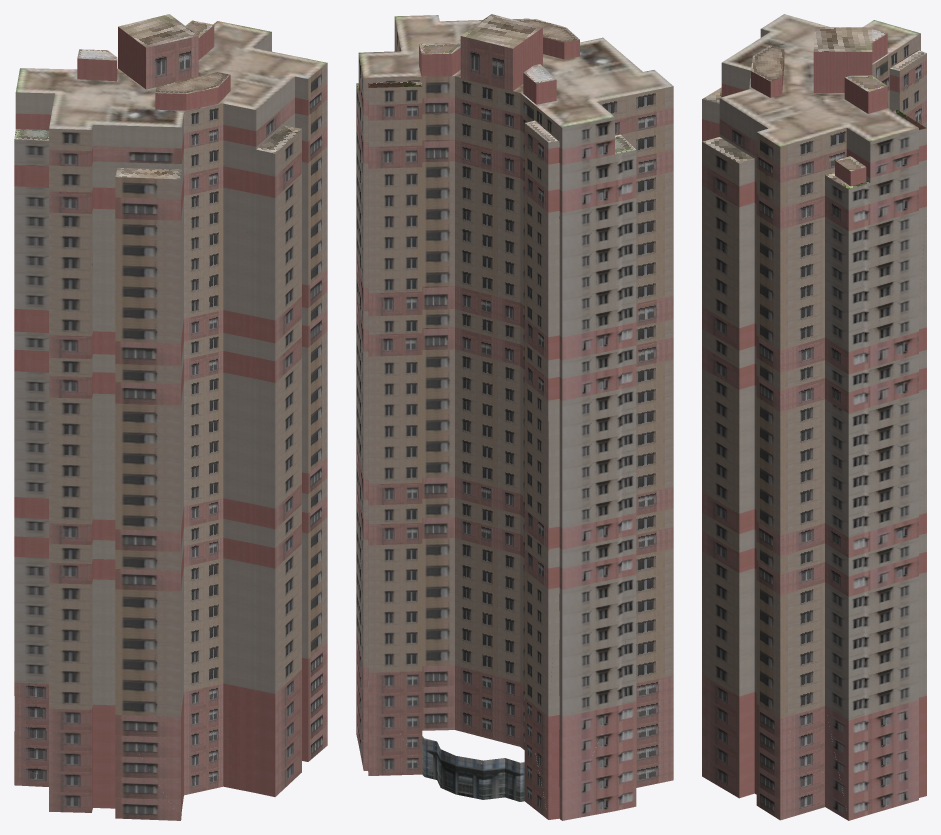
Rendered from HPDPKZ_xujiahuilu1nong5hao.dae.
3 views of the same model, side by side, from view 1: azimuth 30°, elevation 25°; view 2: azimuth 150°, elevation 25°; view 3: azimuth 270°, elevation 25° (orthographic). The views are drawn at different scales.
Visible parts, largest first — view 1: HPDPKZ_xujiahuilu1nong5hao_louding2, HPDPKZ_xujiahuilu1nong5hao_34F_3403, HPDPKZ_xujiahuilu1nong5hao_34F_3406, HPDPKZ_xujiahuilu1nong5hao_33F_3303, HPDPKZ_xujiahuilu1nong5hao_33F_3306, HPDPKZ_xujiahuilu1nong5hao_25F_2503, HPDPKZ_xujiahuilu1nong5hao_25F_2506, HPDPKZ_xujiahuilu1nong5hao_3F_303, HPDPKZ_xujiahuilu1nong5hao_22F_2206, HPDPKZ_xujiahuilu1nong5hao_22F_2203, HPDPKZ_xujiahuilu1nong5hao_3F_306, HPDPKZ_xujiahuilu1nong5hao_23F_2303 (+124 smaller); view 2: HPDPKZ_xujiahuilu1nong5hao_louding2, HPDPKZ_xujiahuilu1nong5hao_34F_3401, HPDPKZ_xujiahuilu1nong5hao_34F_3404, HPDPKZ_xujiahuilu1nong5hao_33F_3301, HPDPKZ_xujiahuilu1nong5hao_1F, HPDPKZ_xujiahuilu1nong5hao_25F_2501, HPDPKZ_xujiahuilu1nong5hao_22F_2201, HPDPKZ_xujiahuilu1nong5hao_3F_301, HPDPKZ_xujiahuilu1nong5hao_33F_3304, HPDPKZ_xujiahuilu1nong5hao_23F_2301, HPDPKZ_xujiahuilu1nong5hao_32F_3201, HPDPKZ_xujiahuilu1nong5hao_7F_701 (+117 smaller); view 3: HPDPKZ_xujiahuilu1nong5hao_louding2, HPDPKZ_xujiahuilu1nong5hao_34F_3404, HPDPKZ_xujiahuilu1nong5hao_34F_3405, HPDPKZ_xujiahuilu1nong5hao_33F_3304, HPDPKZ_xujiahuilu1nong5hao_25F_2504, HPDPKZ_xujiahuilu1nong5hao_22F_2204, HPDPKZ_xujiahuilu1nong5hao_3F_304, HPDPKZ_xujiahuilu1nong5hao_23F_2304, HPDPKZ_xujiahuilu1nong5hao_32F_3204, HPDPKZ_xujiahuilu1nong5hao_8F_804, HPDPKZ_xujiahuilu1nong5hao_7F_704, HPDPKZ_xujiahuilu1nong5hao_6F_604 (+88 smaller).
Boxes of the visible parts, box(x1,y1,x2,y2) form: HPDPKZ_xujiahuilu1nong5hao_louding2: box(14, 14, 326, 179); HPDPKZ_xujiahuilu1nong5hao_34F_3403: box(106, 108, 203, 163); HPDPKZ_xujiahuilu1nong5hao_34F_3406: box(203, 81, 289, 146); HPDPKZ_xujiahuilu1nong5hao_33F_3303: box(106, 145, 203, 199); HPDPKZ_xujiahuilu1nong5hao_33F_3306: box(203, 118, 301, 176); HPDPKZ_xujiahuilu1nong5hao_25F_2503: box(106, 314, 203, 366); HPDPKZ_xujiahuilu1nong5hao_25F_2506: box(203, 296, 301, 343); HPDPKZ_xujiahuilu1nong5hao_3F_303: box(106, 729, 203, 780); HPDPKZ_xujiahuilu1nong5hao_22F_2206: box(203, 358, 301, 404); HPDPKZ_xujiahuilu1nong5hao_22F_2203: box(106, 377, 203, 427); HPDPKZ_xujiahuilu1nong5hao_3F_306: box(203, 711, 301, 757); HPDPKZ_xujiahuilu1nong5hao_23F_2303: box(106, 355, 203, 405); HPDPKZ_xujiahuilu1nong5hao_louding2: box(356, 14, 673, 154); HPDPKZ_xujiahuilu1nong5hao_34F_3401: box(520, 93, 620, 164); HPDPKZ_xujiahuilu1nong5hao_34F_3404: box(358, 41, 454, 120); HPDPKZ_xujiahuilu1nong5hao_33F_3301: box(520, 130, 636, 191); HPDPKZ_xujiahuilu1nong5hao_1F: box(422, 756, 579, 820); HPDPKZ_xujiahuilu1nong5hao_25F_2501: box(520, 303, 636, 360); HPDPKZ_xujiahuilu1nong5hao_22F_2201: box(520, 366, 636, 423); HPDPKZ_xujiahuilu1nong5hao_3F_301: box(520, 725, 636, 781); HPDPKZ_xujiahuilu1nong5hao_33F_3304: box(356, 84, 454, 146); HPDPKZ_xujiahuilu1nong5hao_23F_2301: box(520, 344, 636, 400); HPDPKZ_xujiahuilu1nong5hao_32F_3201: box(520, 157, 636, 212); HPDPKZ_xujiahuilu1nong5hao_7F_701: box(520, 640, 636, 695); HPDPKZ_xujiahuilu1nong5hao_louding2: box(702, 14, 926, 189); HPDPKZ_xujiahuilu1nong5hao_34F_3404: box(825, 127, 926, 178); HPDPKZ_xujiahuilu1nong5hao_34F_3405: box(756, 124, 824, 183); HPDPKZ_xujiahuilu1nong5hao_33F_3304: box(825, 160, 926, 210); HPDPKZ_xujiahuilu1nong5hao_25F_2504: box(825, 327, 926, 374); HPDPKZ_xujiahuilu1nong5hao_22F_2204: box(825, 389, 926, 435); HPDPKZ_xujiahuilu1nong5hao_3F_304: box(825, 737, 926, 782); HPDPKZ_xujiahuilu1nong5hao_23F_2304: box(825, 367, 926, 413); HPDPKZ_xujiahuilu1nong5hao_32F_3204: box(825, 185, 926, 231); HPDPKZ_xujiahuilu1nong5hao_8F_804: box(825, 634, 926, 678); HPDPKZ_xujiahuilu1nong5hao_7F_704: box(825, 654, 926, 699); HPDPKZ_xujiahuilu1nong5hao_6F_604: box(825, 675, 926, 720).
Size of the model in its own units: 40.72 by 101 by 28.76.
20 materials, 20 textured.
